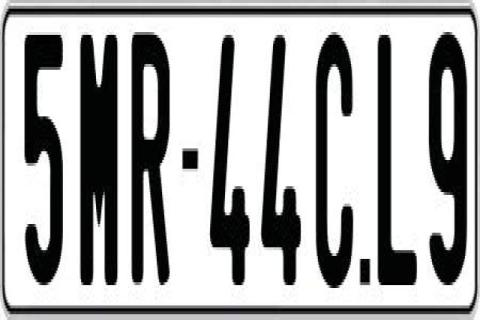0: (259, 26, 306, 288), (24, 35, 64, 303), (210, 29, 250, 285), (427, 26, 463, 294)
C: (315, 32, 353, 296)
L: (376, 32, 419, 285)
M: (80, 35, 118, 299)
R: (128, 29, 167, 291)
